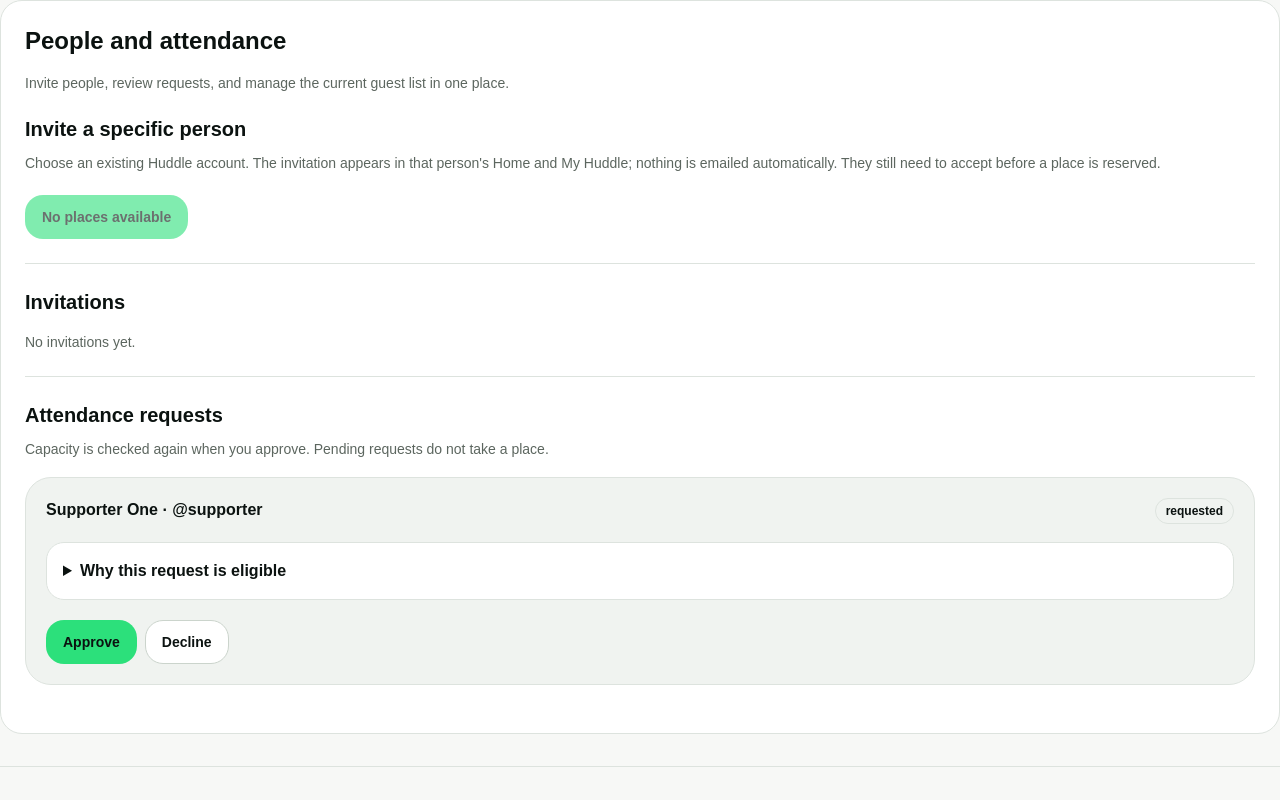
Scenario: EventManagementControls › shows a rejected approval without announcing a reserved seat
Step 1. Click the button "Approve" → (91,642), box [46, 620, 137, 664]
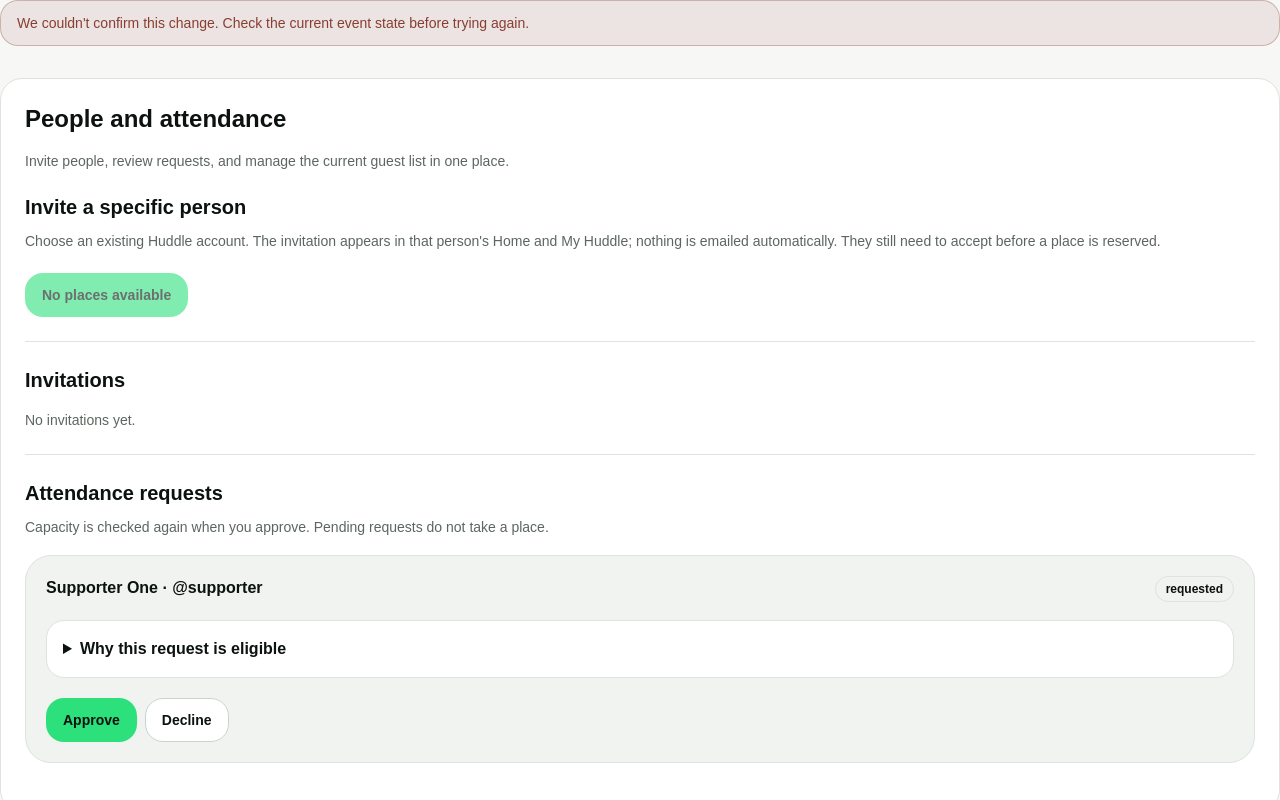
Expected: the button "Approve" is enabled, [46, 698, 137, 742]
Expected: the message shows "couldn't confirm", [17, 15, 529, 31]
